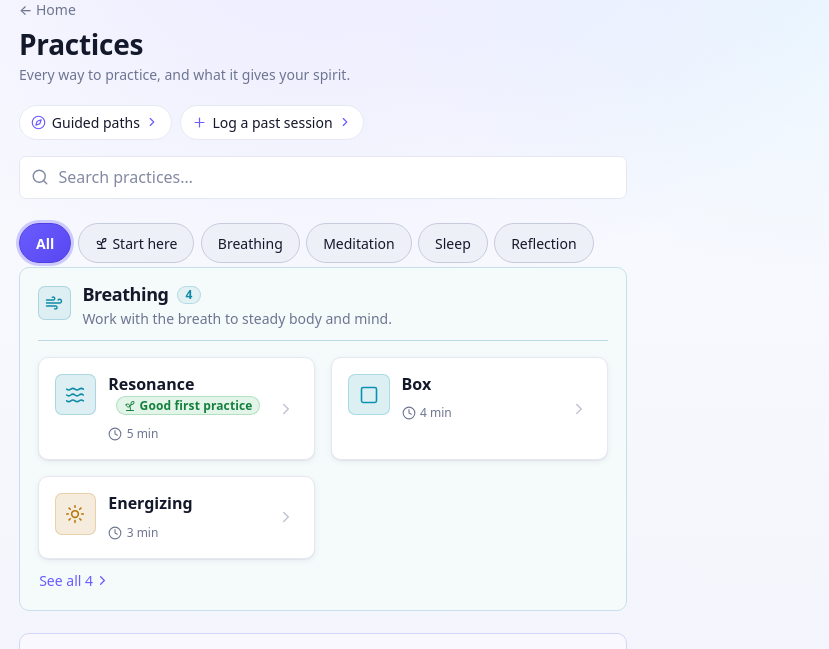
Test: PracticesPage › moves body-scan, loving-kindness and three-breaths into Meditation (their old groups are gone)
Click the button "Meditation" at (359, 243), box [306,223,412,263]
(page scrolled)
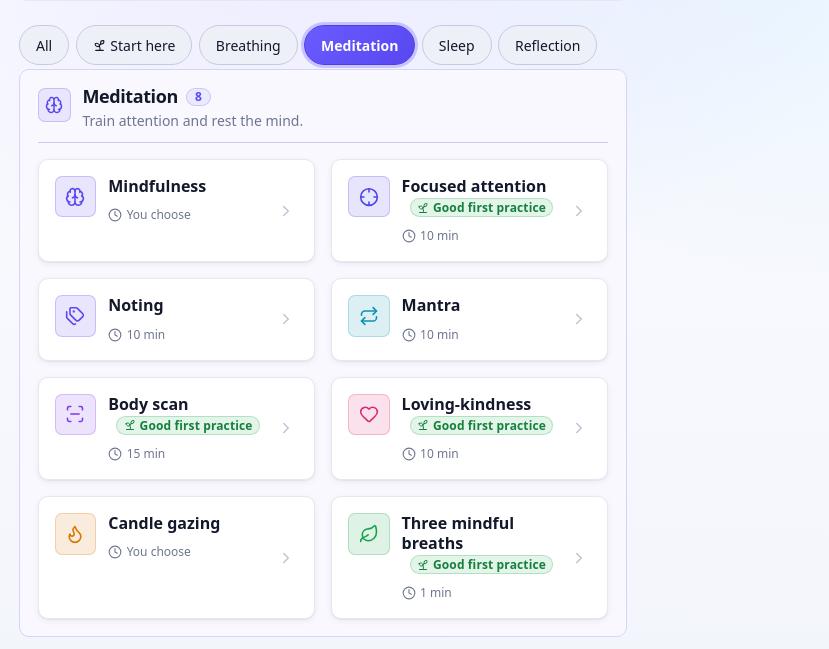
Now the link "Body scan Good first practice 15 min" is shown, box [38,377,315,480]
Now the link "Loving-kindness Good first practice 10 min" is shown, box [331,377,608,480]
Now the link "Three mindful breaths Good first practice 1 min" is shown, box [331,496,608,619]
